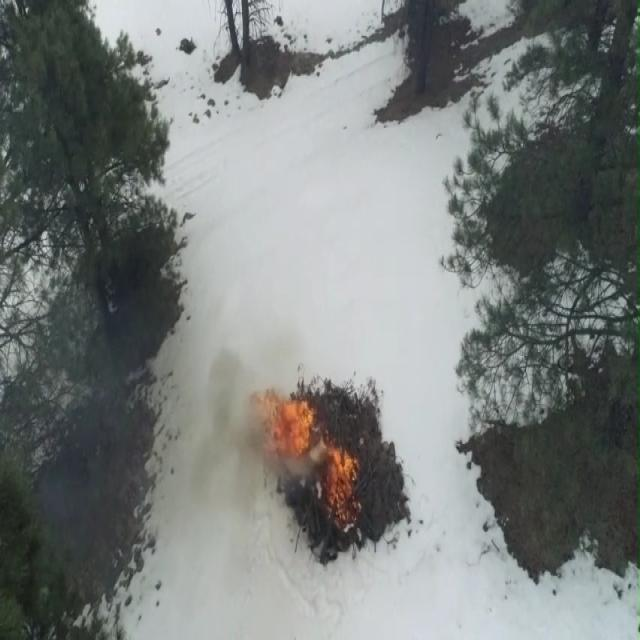Fire: (262, 392, 312, 454), (328, 448, 354, 508)
Smoke: (189, 354, 261, 490)
